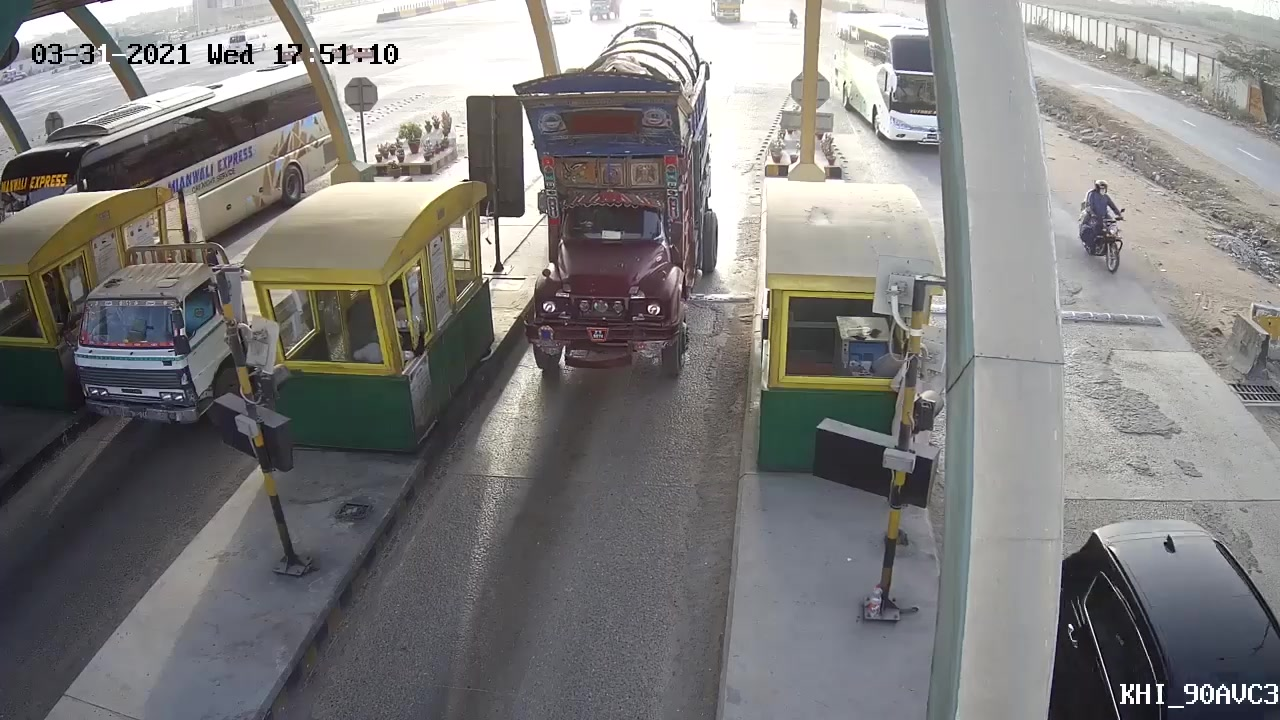F5: (485, 53, 726, 388)
